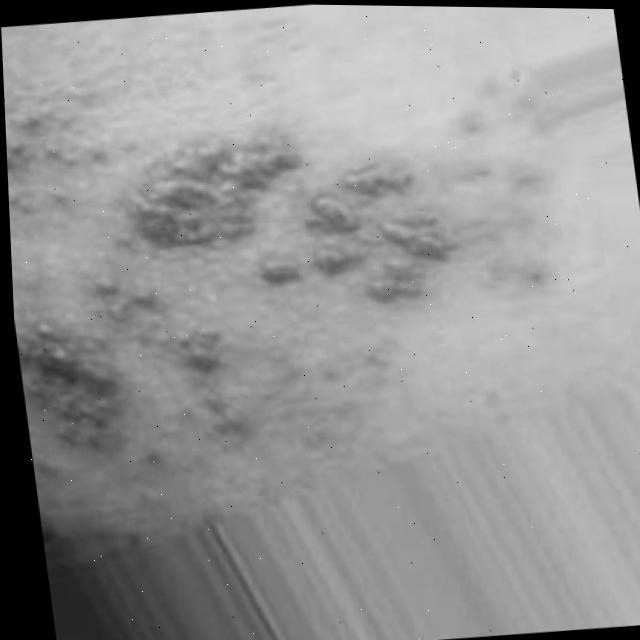Shingles: (5, 118, 488, 489)
